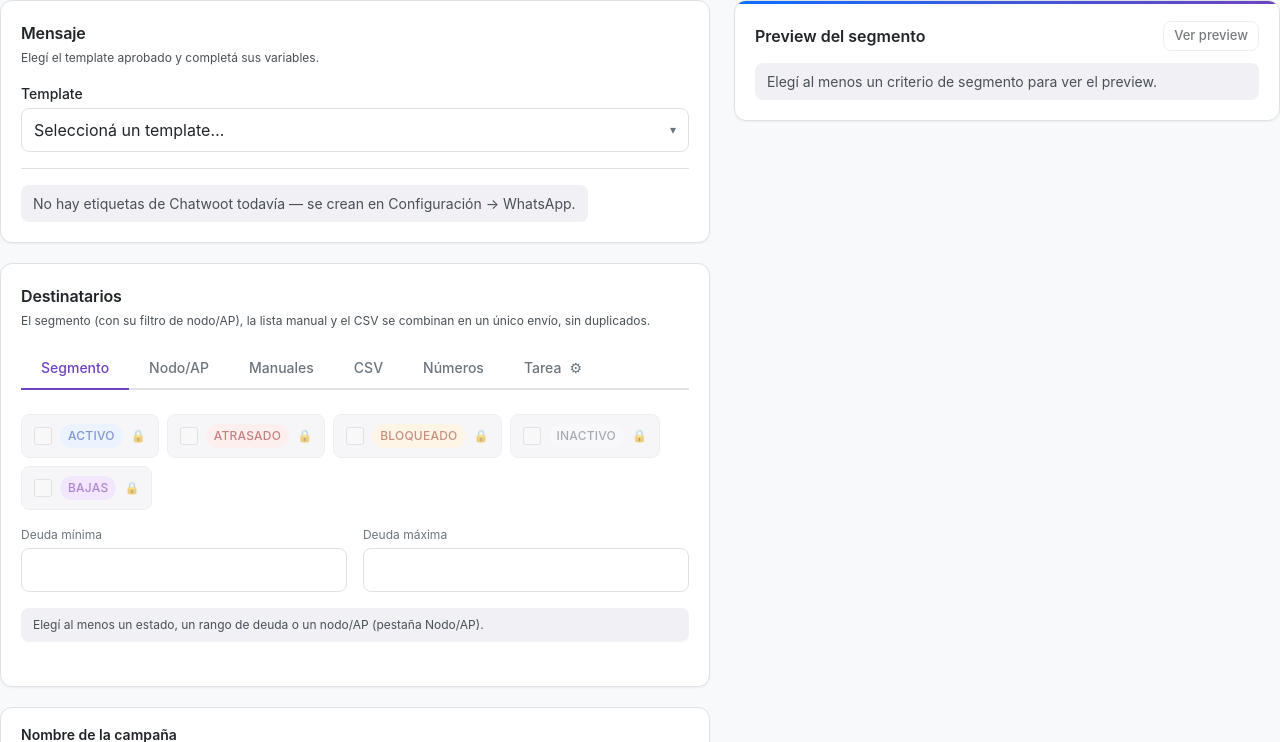
BP-2: gate del tab Números › con messaging.bulk_numbers, el textarea queda habilitado
Click the tab "Números".
click(454, 368)  # box top-left (403, 346), bottom-right (504, 390)
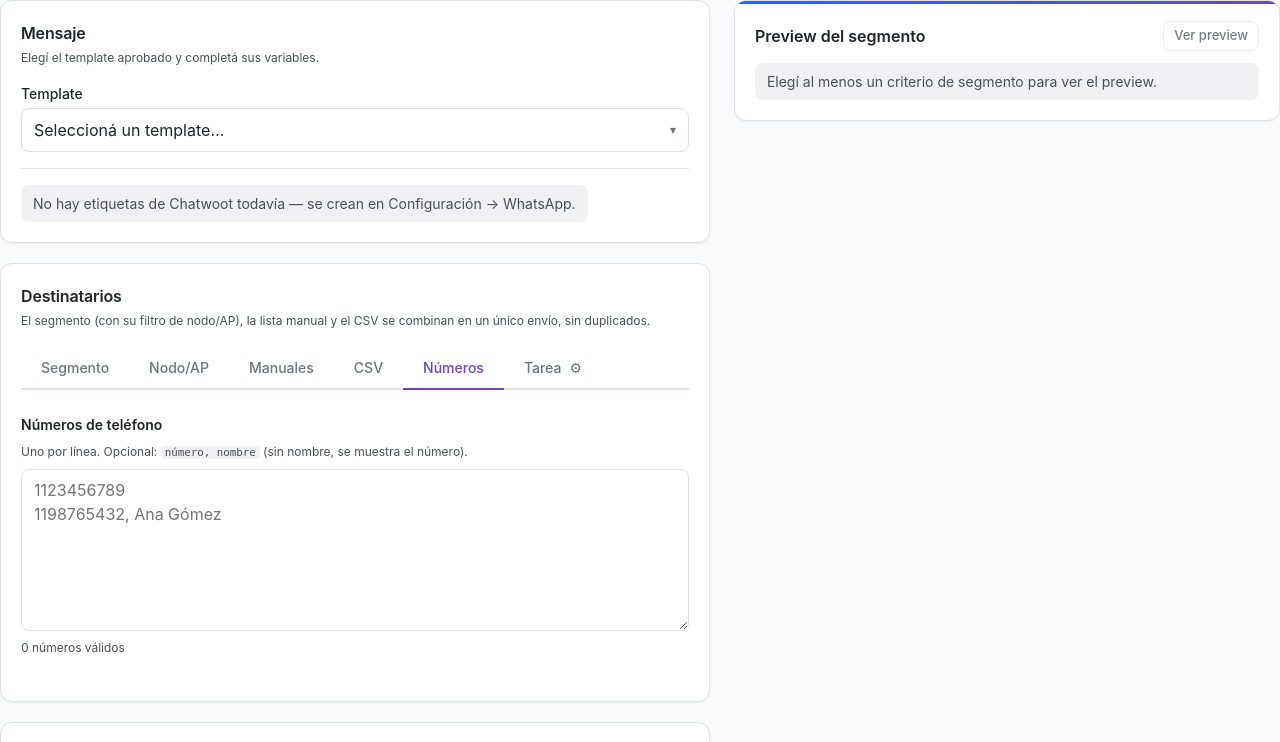
Expected: the text box labelled "Números de teléfono" is enabled, top-left (21, 469), bottom-right (689, 631)
